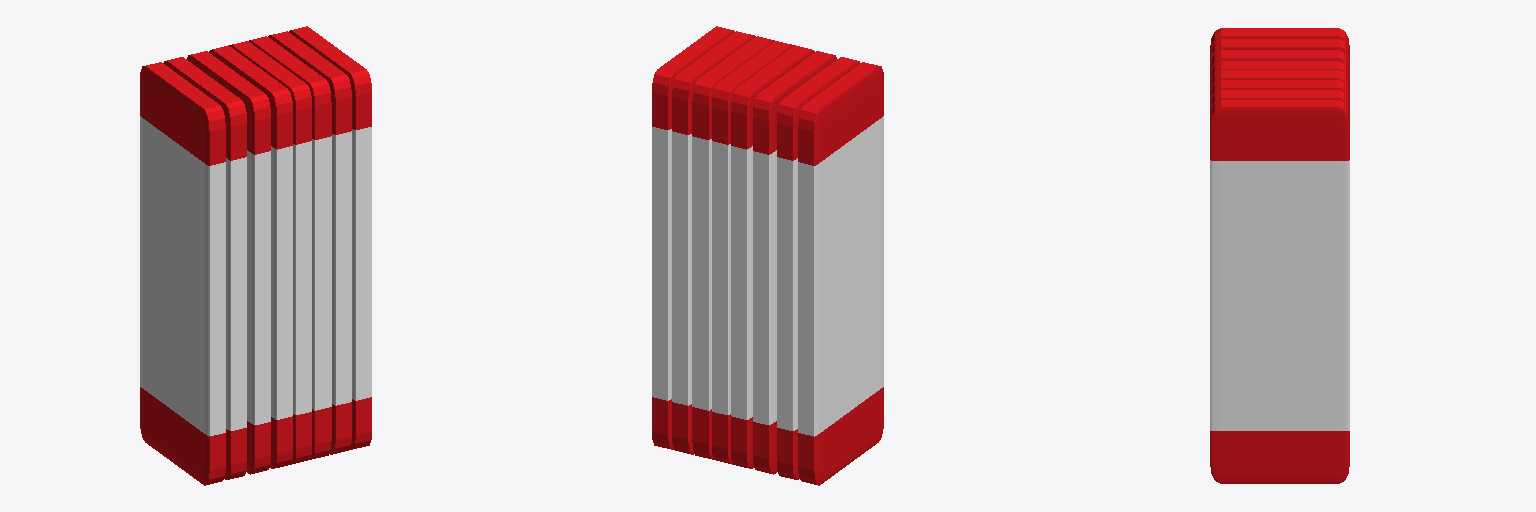
The picture shows the model from 3 angles: view 1: azimuth 30°, elevation 25°; view 2: azimuth 150°, elevation 25°; view 3: azimuth 270°, elevation 25°; orthographic projection.
Visible parts, largest first — view 1: Cube.024; view 2: Cube.024; view 3: Cube.024.
Boxes of the visible parts, <box> form: Cube.024: <box>140,26,371,485</box>; Cube.024: <box>652,26,883,485</box>; Cube.024: <box>1210,28,1349,483</box>.
Bounding box in the file's own units: 0.0914 × 0.2 × 0.0672.
1 materials, 1 textured.